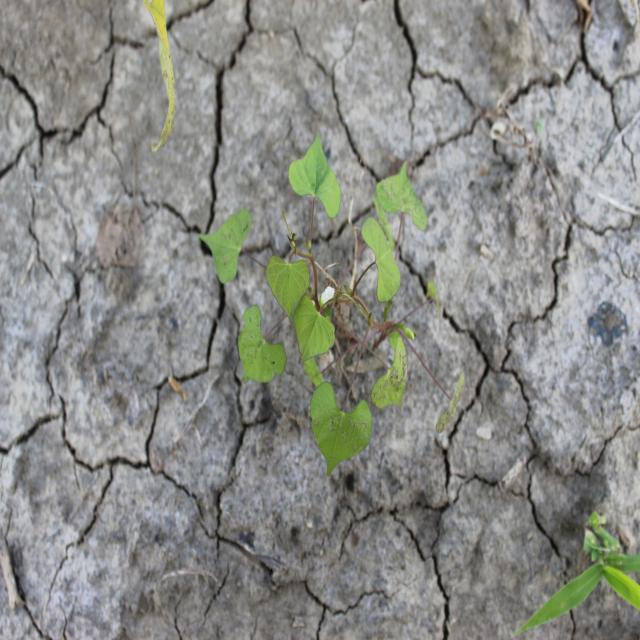MorningGlory: (197, 129, 466, 479)
